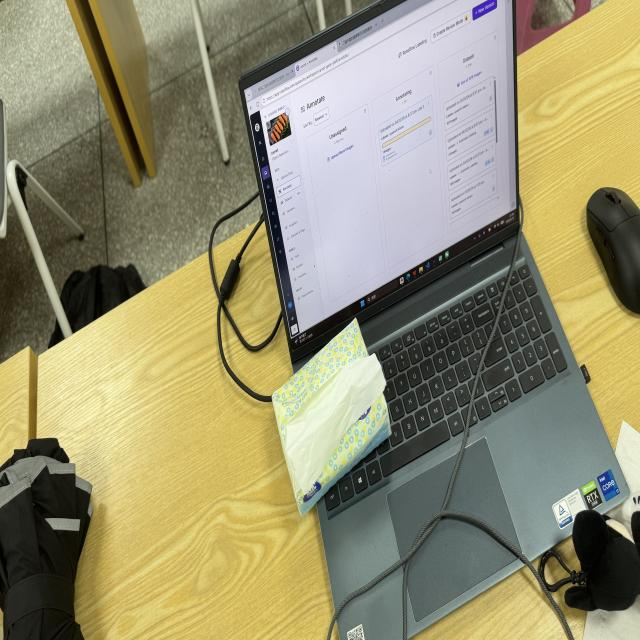mickey: (565, 496, 639, 610)
tissue: (273, 321, 389, 513), (286, 356, 384, 487), (608, 421, 639, 534), (584, 596, 639, 639)
